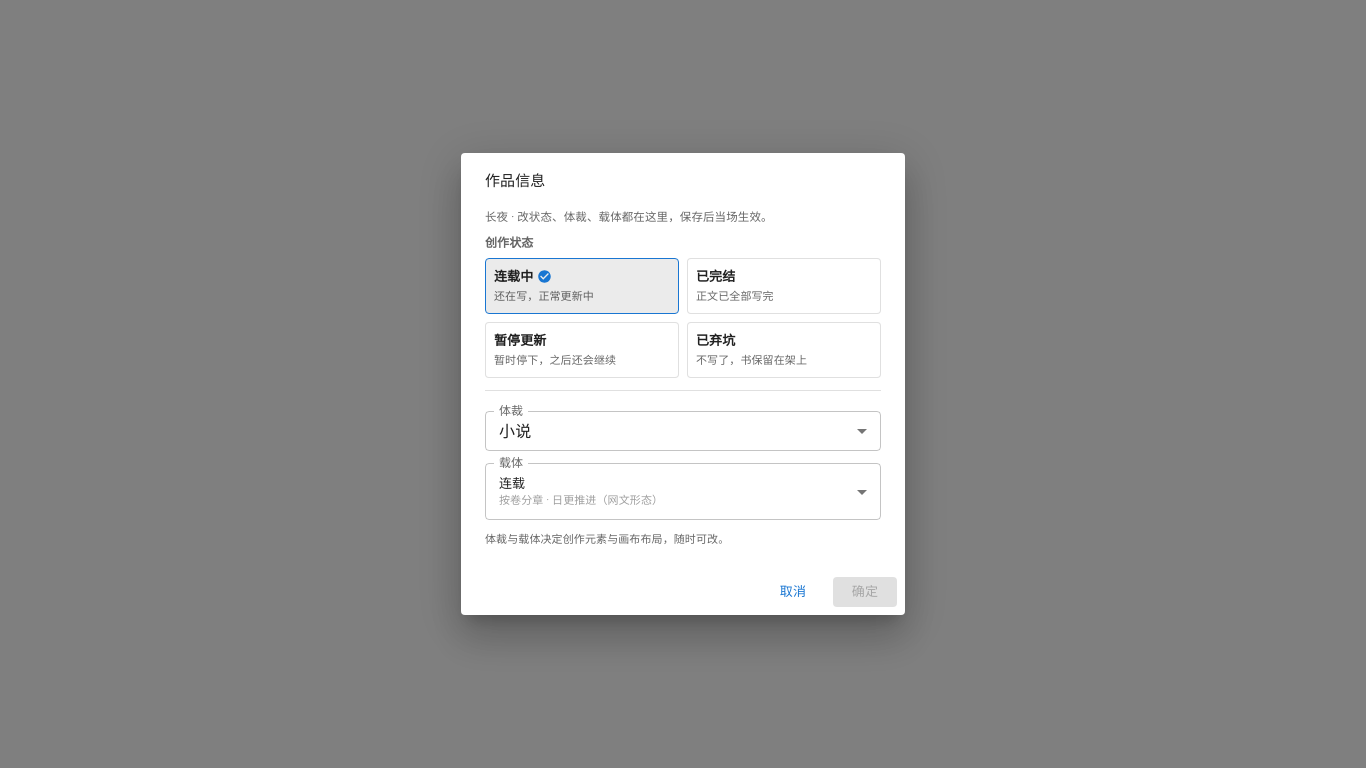
Test: 作品信息对话框（插单七 · 明示入口） › 点「已完结」→ 确认解禁 → 提交落规范码 finished，并带上体裁载体
The image size is (1366, 768).
Later steps or results of the test are not shown.
Click the element showing "已完结 正文已全部写完": (784, 286) [687, 258, 881, 314]
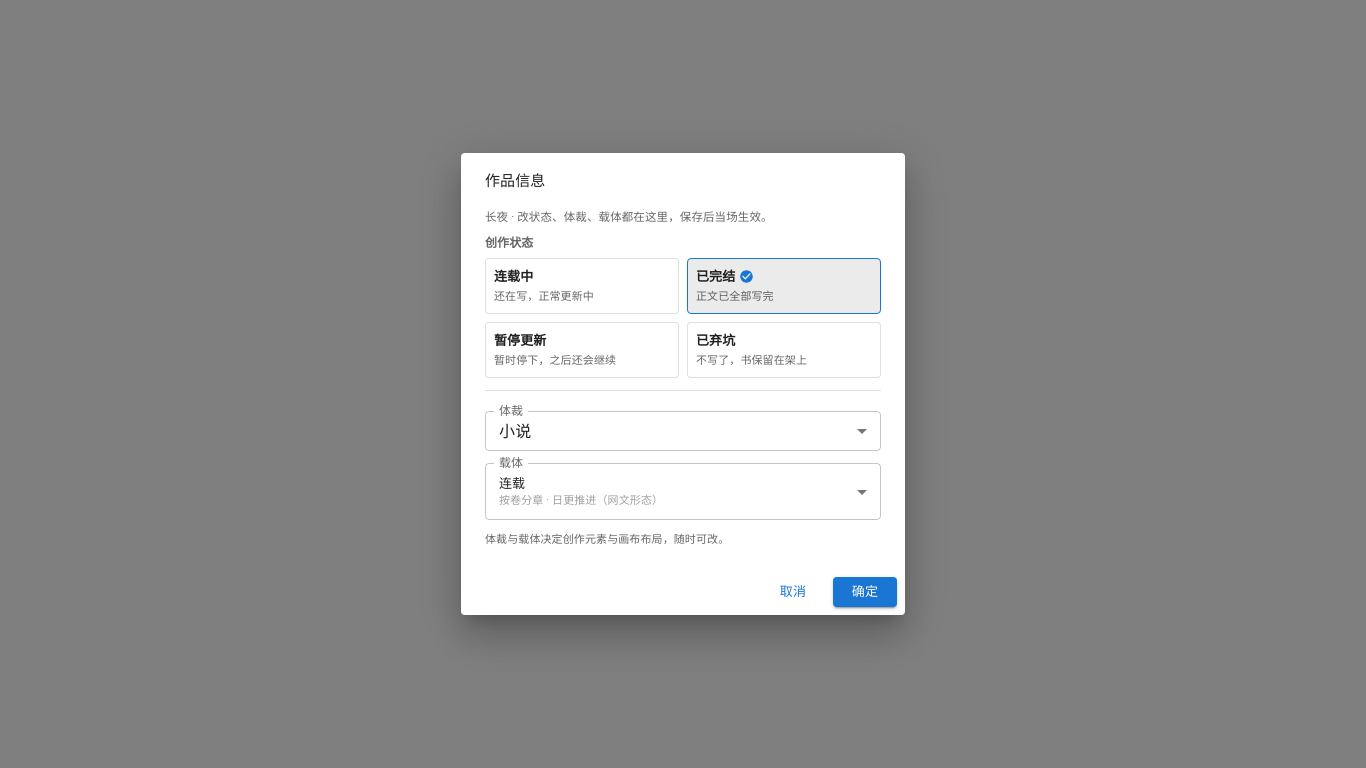
Now the button "确定" is enabled, box [833, 576, 897, 607]
